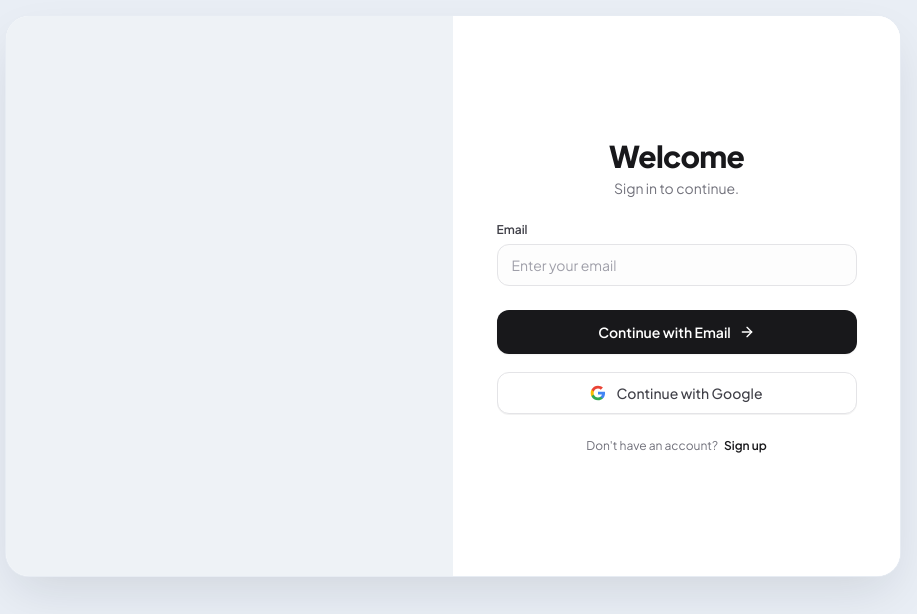
Scenario: LoginPage › surfaces a failure to start the handshake
Click the button "Continue with Google".
click(676, 393)  # box [496,372,856,414]
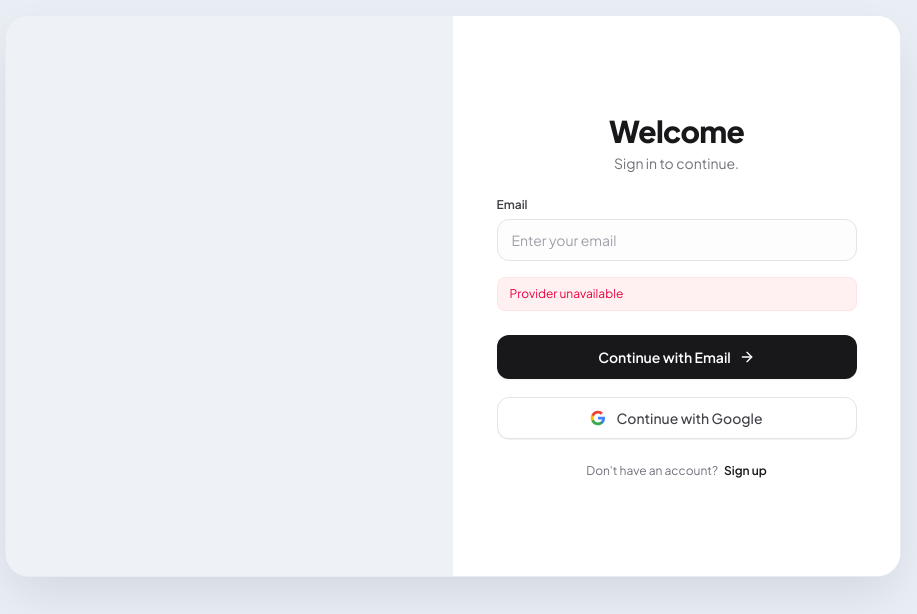
Check: the message reads "Provider unavailable", box [510,286,623,301]
